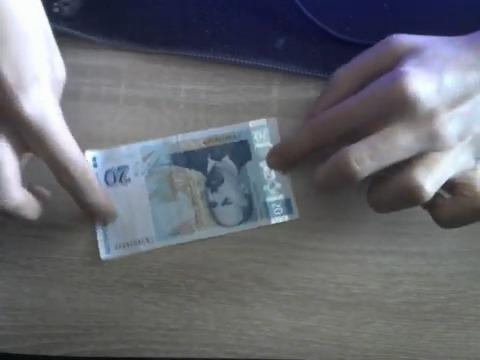20leva: (85, 119, 298, 261)
